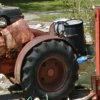Tractor: (8, 2, 78, 96)
